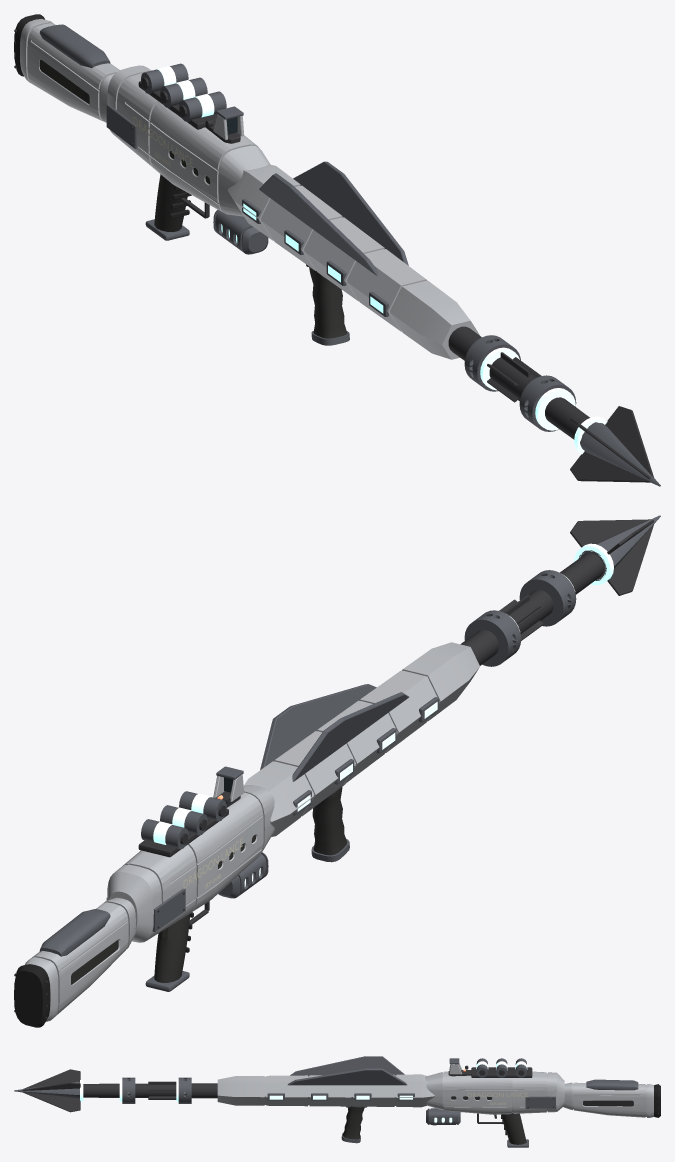
The model's file is dragoon.glb.
The picture shows the model from 3 angles, top to bottom: view 1: azimuth 30°, elevation 25°; view 2: azimuth 150°, elevation 25°; view 3: azimuth 270°, elevation 25°; orthographic projection. The views are drawn at different scales.
Visible parts, largest first — view 1: Body; view 2: Body; view 3: Body, Body_marks.
Part boxes in pixels (x1,y1,x2,y2): Body: (14, 14, 660, 486); Body: (14, 515, 660, 1027); Body: (14, 1056, 660, 1147); Body_marks: (467, 1092, 527, 1104).
Size of the model in its own units: 0.076 by 0.2156 by 1.49.
